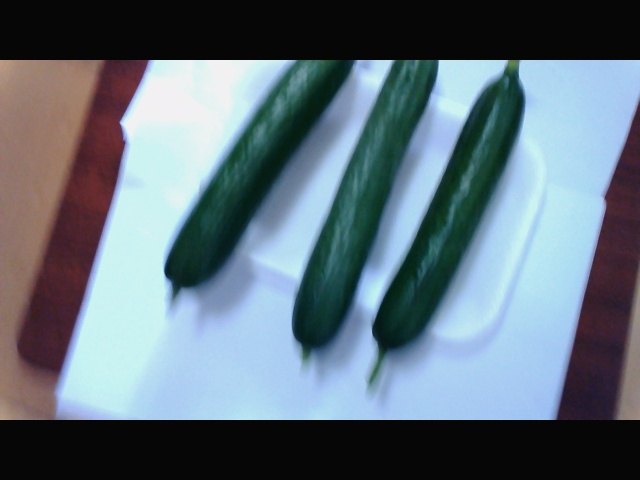cucumber: (158, 60, 522, 363)
